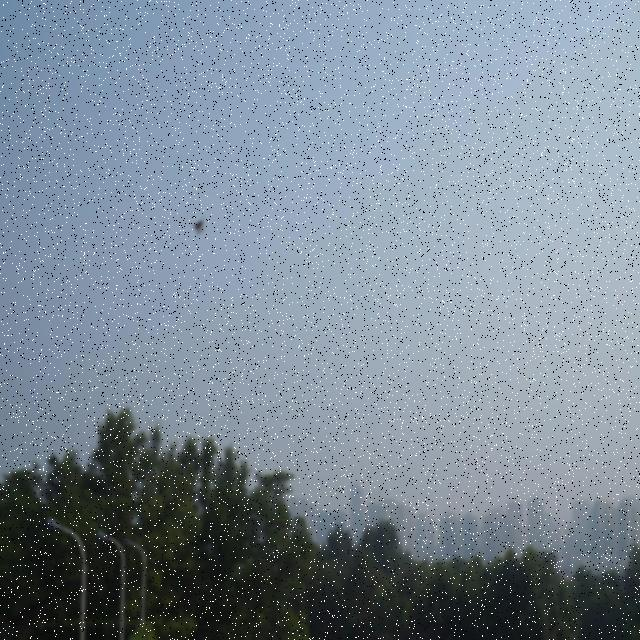UAV: (191, 216, 206, 236)
